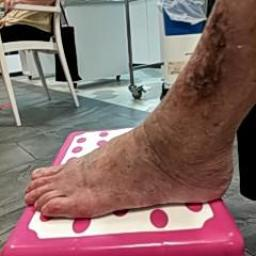Lateral View -Left Foot-: (14, 98, 241, 227)
